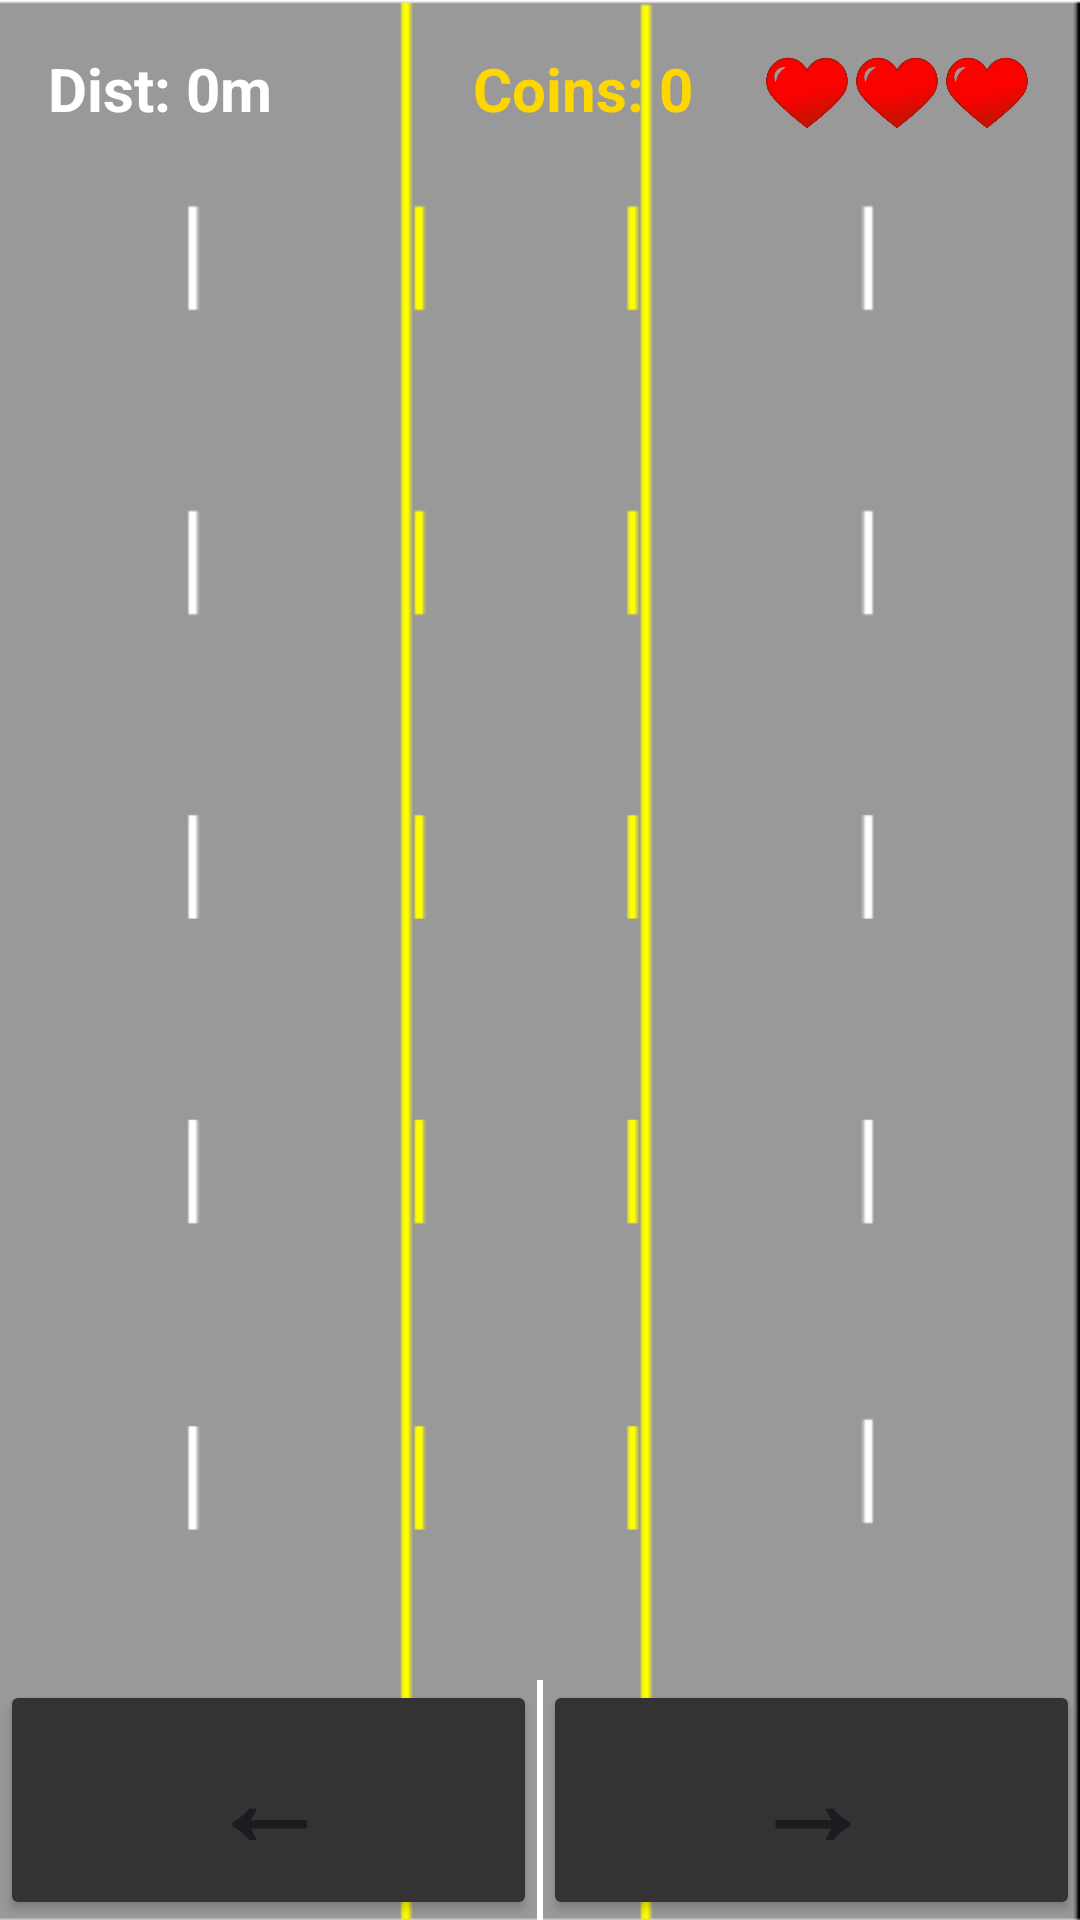

Icon click points for this 1080x1920 phone screenshot, format [x,y]:
heart: [807,92], [897,92], [987,92]
